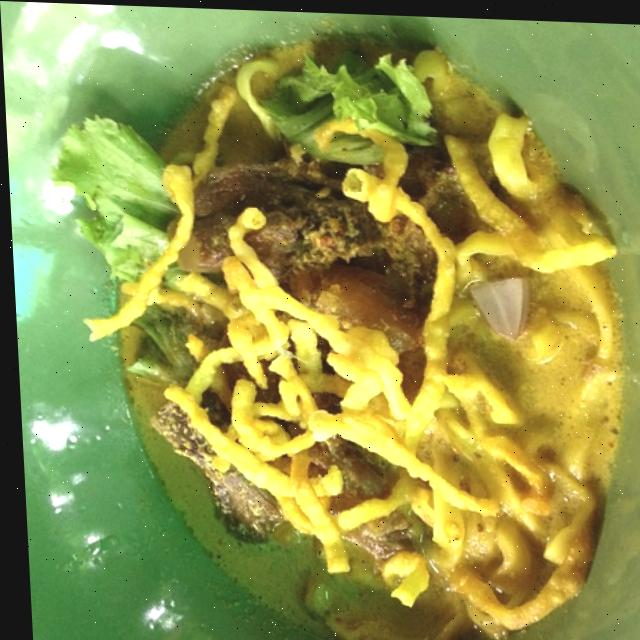面条主食: (66, 24, 640, 637)
